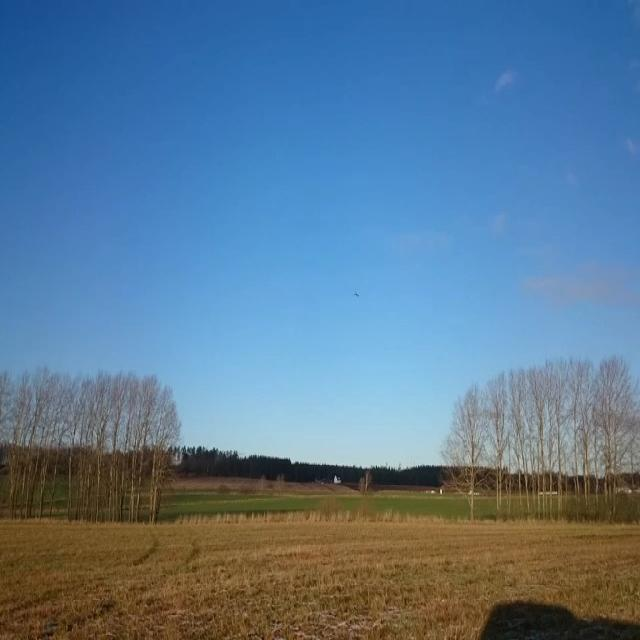drone: (354, 292, 359, 296)
